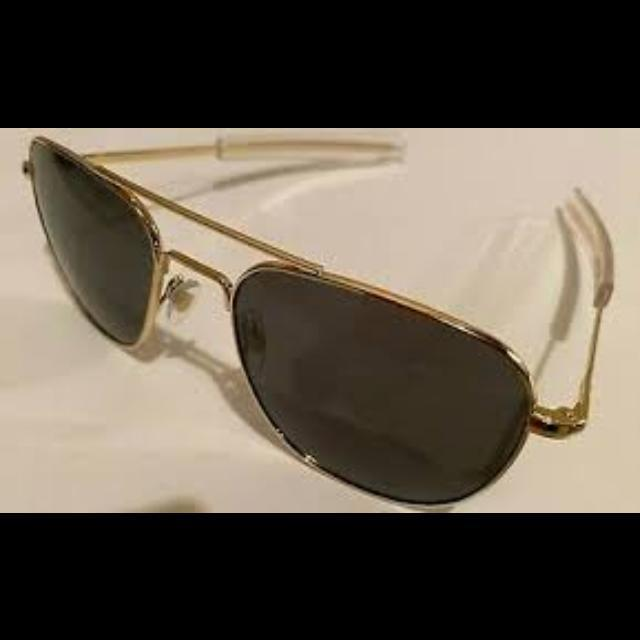glasses: (22, 130, 614, 503)
